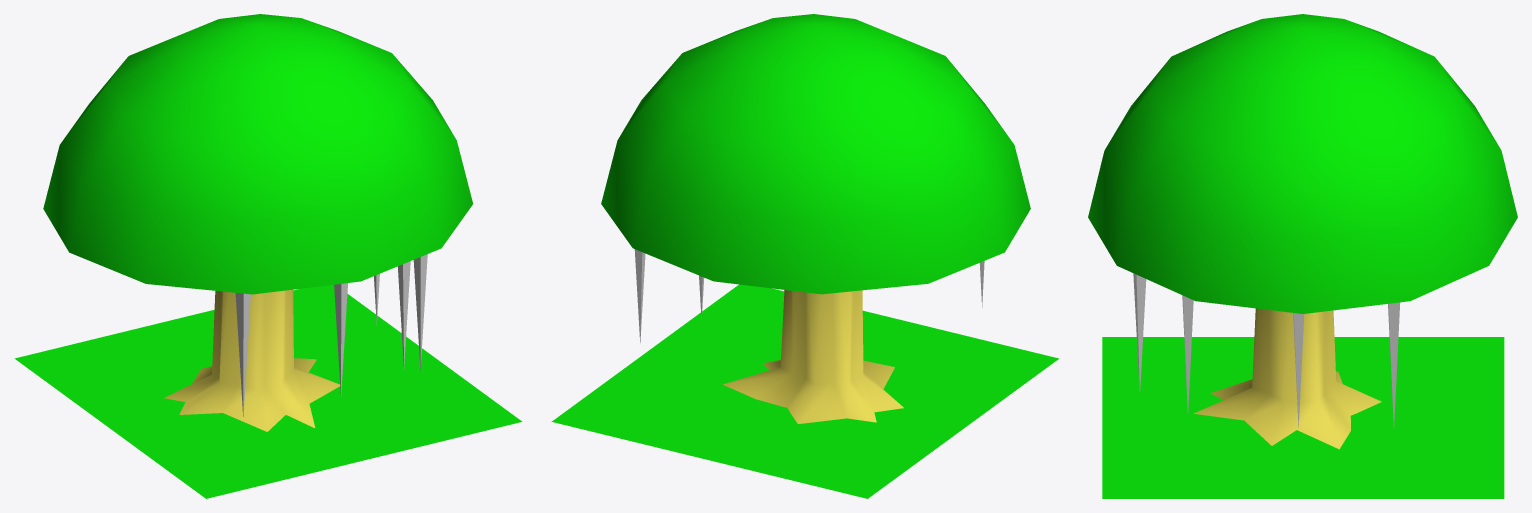
The model's file is Pohon_Beringin.fbx.
3 renders of one model, left to right at view 1: azimuth 30°, elevation 25°; view 2: azimuth 150°, elevation 25°; view 3: azimuth 270°, elevation 25°, orthographic. The views are drawn at different scales.
Visible parts, largest first — view 1: Daun, Tanah, Batang, Akar_Gantung5, Akar_Gantung2, Akar_Gantung4, Akar_Gantung3; view 2: Daun, Tanah, Batang, Akar_Gantung6; view 3: Daun, Tanah, Batang, Akar_Gantung6, Akar_Gantung2, Akar_Gantung3, Akar_Gantung1.
Part boxes in pixels (bbox=[...]): Daun: bbox=[43, 14, 472, 294]; Tanah: bbox=[14, 284, 522, 498]; Batang: bbox=[164, 289, 340, 431]; Akar_Gantung5: bbox=[235, 293, 250, 416]; Akar_Gantung2: bbox=[413, 254, 427, 370]; Akar_Gantung4: bbox=[334, 283, 347, 396]; Akar_Gantung3: bbox=[397, 261, 410, 368]; Daun: bbox=[601, 14, 1030, 294]; Tanah: bbox=[551, 284, 1058, 498]; Batang: bbox=[723, 290, 903, 423]; Akar_Gantung6: bbox=[634, 249, 645, 342]; Daun: bbox=[1088, 14, 1517, 313]; Tanah: bbox=[1102, 337, 1504, 498]; Batang: bbox=[1193, 308, 1381, 449]; Akar_Gantung6: bbox=[1388, 302, 1400, 428]; Akar_Gantung2: bbox=[1133, 273, 1146, 393]; Akar_Gantung3: bbox=[1182, 295, 1193, 413]; Akar_Gantung1: bbox=[1293, 313, 1304, 427].
Bounding box in the file's own units: 350 × 325 × 329.
